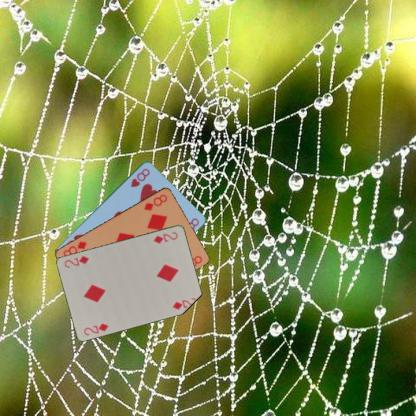2d: (81, 320, 110, 336), (151, 229, 179, 245)
8d: (142, 192, 168, 212)
8h: (128, 166, 151, 188)
